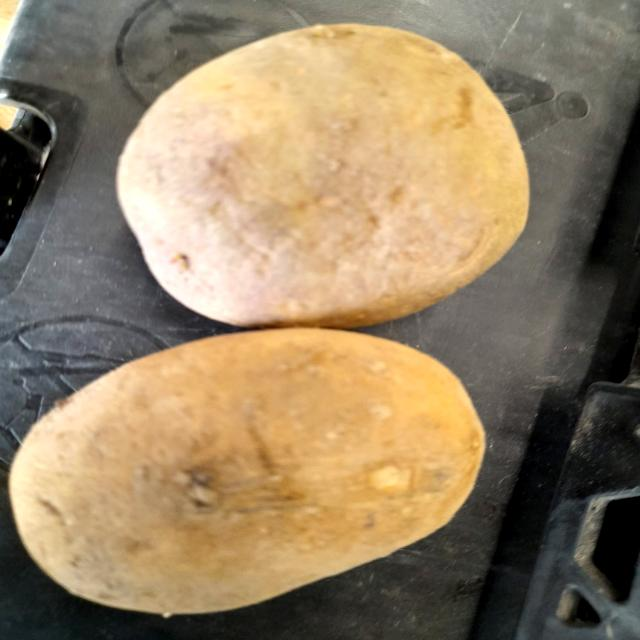potato: (0, 311, 510, 623), (83, 9, 566, 336)
